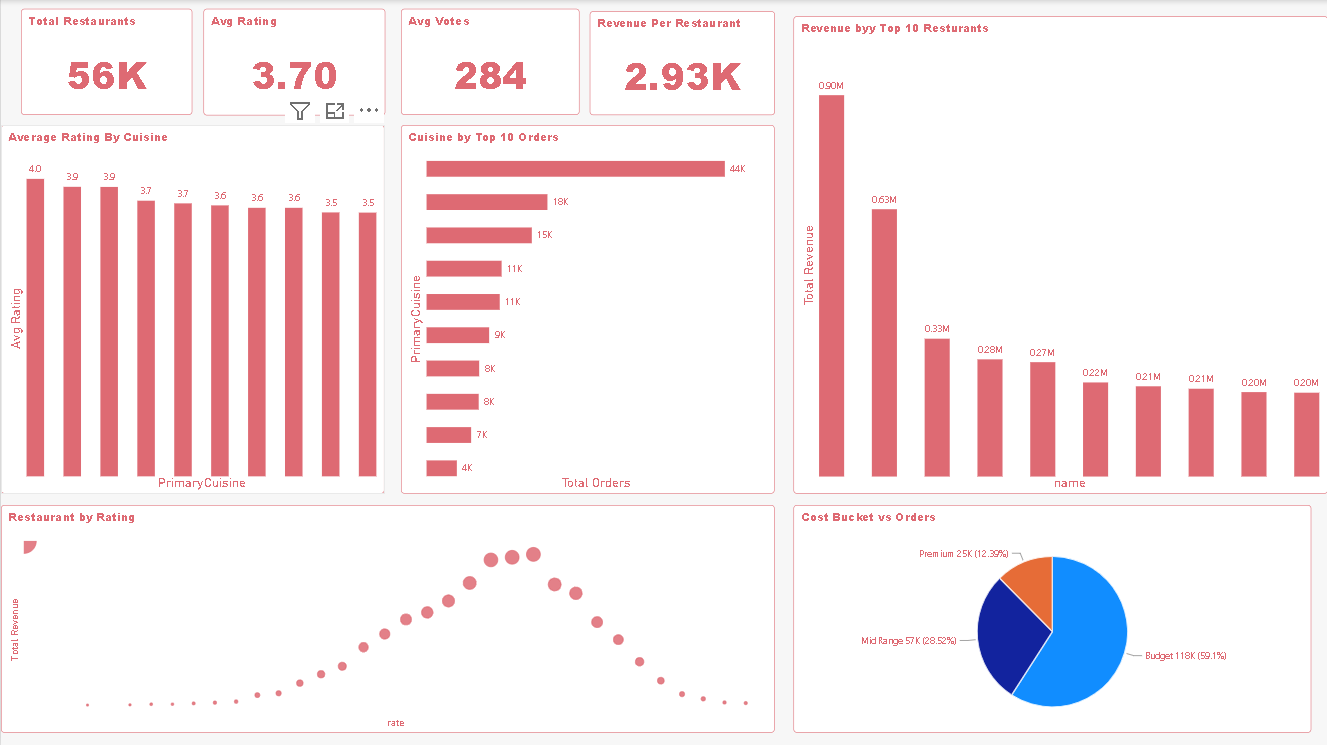

The dashboard page shown, as its layout file describes it:
{"tool":"powerbi","page":{"name":"Restaurant Performance","canvas":[1920,1080],"ordinal":2},"visuals":[{"type":"cardVisual","title":"Total Restaurants","fields":{"Data":["Orders.Total Restaurants"]},"box":[29,12.7,247.9,153.8],"z":0},{"type":"cardVisual","title":"Avg Rating","fields":{"Data":["Orders.Avg Rating"]},"box":[292.3,12.3,263.5,154.4],"z":1000},{"type":"cardVisual","title":"Avg Votes","fields":{"Data":["Orders.Avg Votes"]},"box":[579.1,12.7,258.8,153.8],"z":2000},{"type":"cardVisual","title":"Revenue Per Restaurant","fields":{"Data":["Orders.Revenue per Restaurant"]},"box":[852.4,16.3,267.8,150.2],"z":3000},{"type":"barChart","title":"Cuisine by Top 10 Orders","fields":{"Y":["Orders.Total Orders"],"Category":["Restaurants.PrimaryCuisine"]},"box":[579.1,181,541.1,533.8],"z":4000},{"type":"columnChart","title":"Revenue byy Top 10 Resturants","fields":{"Category":["Restaurants.name"],"Y":["Orders.Total Revenue"]},"box":[1146.5,22.6,773.9,691.6],"z":5000},{"type":"columnChart","title":"Average Rating By Cuisine","fields":{"Category":["Restaurants.PrimaryCuisine"],"Y":["Orders.Avg Rating"]},"box":[0,181,555.6,533.8],"z":6000},{"type":"scatterChart","title":"Restaurant by Rating","fields":{"Y":["Orders.Total Revenue"],"X":["Restaurants.rate"],"Size":["Orders.Total Orders"]},"box":[0,730.7,1119.7,329.3],"z":7000},{"type":"pieChart","title":"Cost Bucket vs Orders","fields":{"Category":["Restaurants.Cost Bucket"],"Y":["Orders.Total Orders"]},"box":[1146.5,730.7,749.2,329.3],"z":8000}]}

Visuals, with their boxes in screenshot pixels (x1, y1, x2, y2), scaled from the page's 1920x1080 canvas onto the 1327x745 screenshot:
"Total Restaurants" cardVisual: box(20, 9, 191, 115)
"Avg Rating" cardVisual: box(202, 8, 384, 115)
"Avg Votes" cardVisual: box(400, 9, 579, 115)
"Revenue Per Restaurant" cardVisual: box(589, 11, 774, 115)
"Cuisine by Top 10 Orders" barChart: box(400, 125, 774, 493)
"Revenue byy Top 10 Resturants" columnChart: box(792, 16, 1326, 493)
"Average Rating By Cuisine" columnChart: box(0, 125, 384, 493)
"Restaurant by Rating" scatterChart: box(0, 504, 774, 731)
"Cost Bucket vs Orders" pieChart: box(792, 504, 1310, 731)
